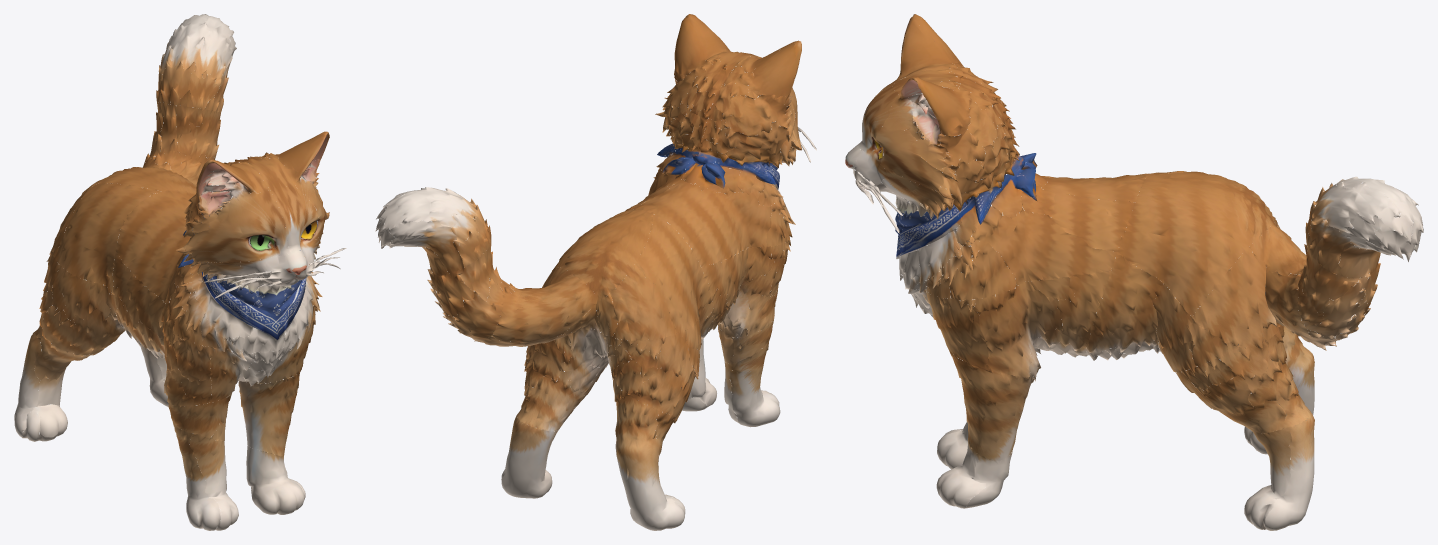
Rendered from cat_50000.glb.
3 views of the same model, side by side, from view 1: azimuth 30°, elevation 25°; view 2: azimuth 150°, elevation 25°; view 3: azimuth 270°, elevation 25° (orthographic). The views are drawn at different scales.
Visible parts, largest first — view 1: tripo_node_d4c6c128-de5c-43f0-8252-b24eece295db.001; view 2: tripo_node_d4c6c128-de5c-43f0-8252-b24eece295db.001; view 3: tripo_node_d4c6c128-de5c-43f0-8252-b24eece295db.001.
Part boxes in pixels (box(x1,y1,x2,y2)): tripo_node_d4c6c128-de5c-43f0-8252-b24eece295db.001: box(14, 14, 346, 530); tripo_node_d4c6c128-de5c-43f0-8252-b24eece295db.001: box(375, 14, 816, 530); tripo_node_d4c6c128-de5c-43f0-8252-b24eece295db.001: box(845, 14, 1423, 530).
Bounding box in the file's own units: 0.5987 × 0.8357 × 0.9987.
Materials: 1 (1 with a texture image).
